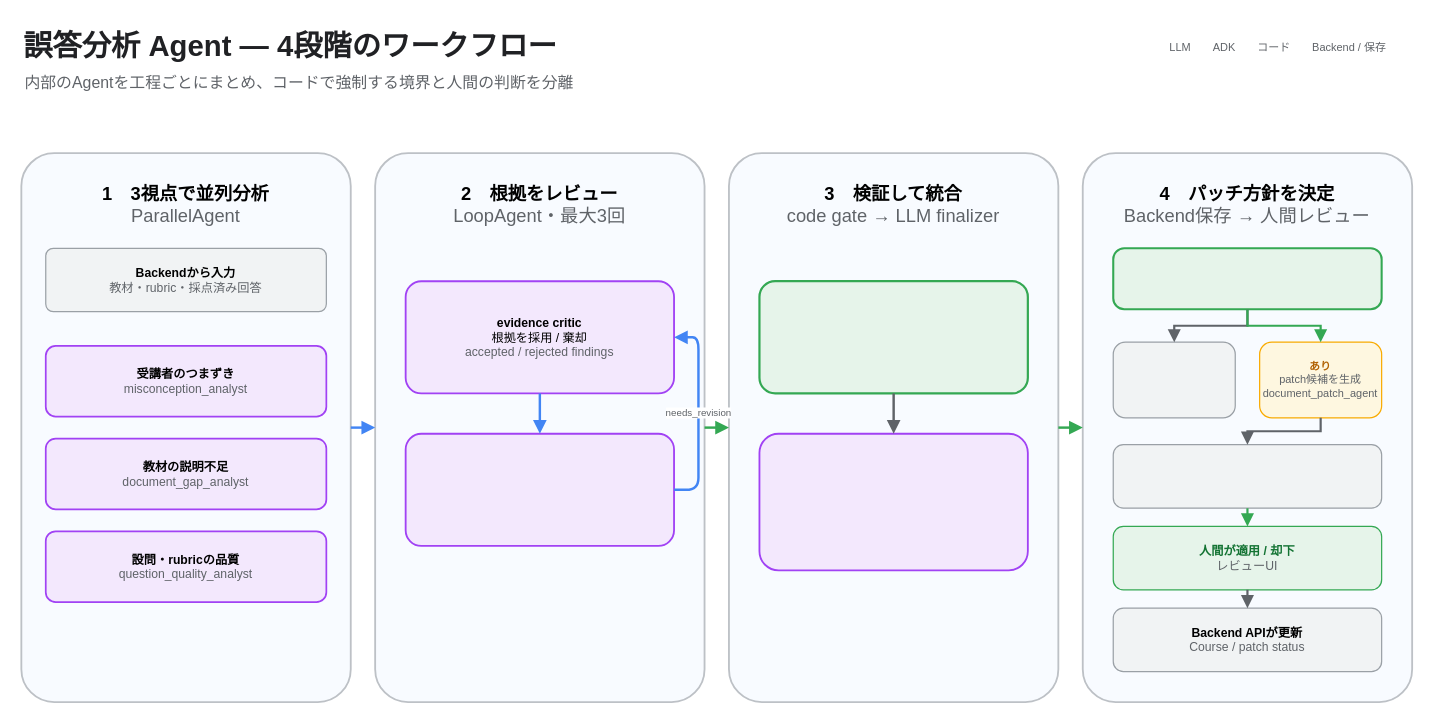
Image size: 1435x723. Some labels were removed from this diagram. Each missing label, with the centre of its shape:
"ApprovedFindingsGate 承認IDを再検証 subset・重複・根拠をコード検証" belongs at point 893,337.
"critic reviewer 判定を再確認 approvedFindingIds を明示" belongs at point 539,489.
"Failure Signal がある?" belongs at point 1247,278.
"finalizer approved findings を入力に FailureAnalysisOutput 意味対応はPromptで制約" belongs at point 893,501.
"Firestore に PROPOSED 保存 Failure Signals / analysis timeline" belongs at point 1247,475.
"なし 見送りを保存 patchなし" belongs at point 1173,379.
